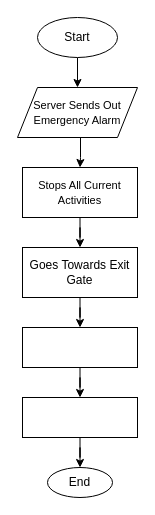
Some shapes in this 155 by 515 pixel diagram are drawn without their labels. The shapes that lost their labels are listed below. From the top down, each one's centre as x and y in pixels, then its label:
At [80,347]: "Communicate With Robot Inside Base".
At [80,417]: "Opens Door For Next Robot".
